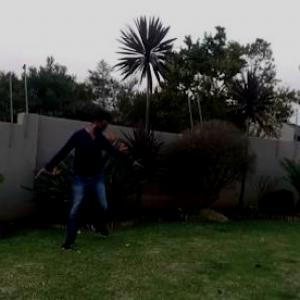land: (30, 97, 166, 263)
